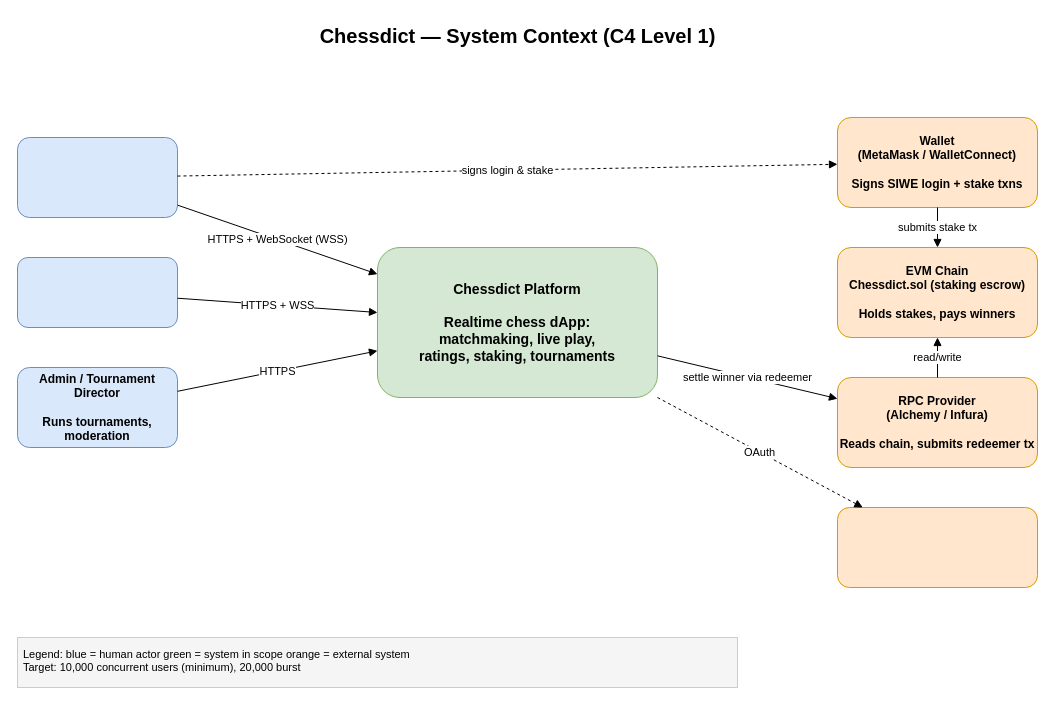
Image size: 1055x705. Some labels were removed from this diagram. Each missing label, with the centre of its shape:
"GitHub OAuth Optional social login" goes at pixel 937 547.
"Player Plays chess, stakes ERC-20, spectates" goes at pixel 97 177.
"Spectator Watches live games" goes at pixel 97 292.
